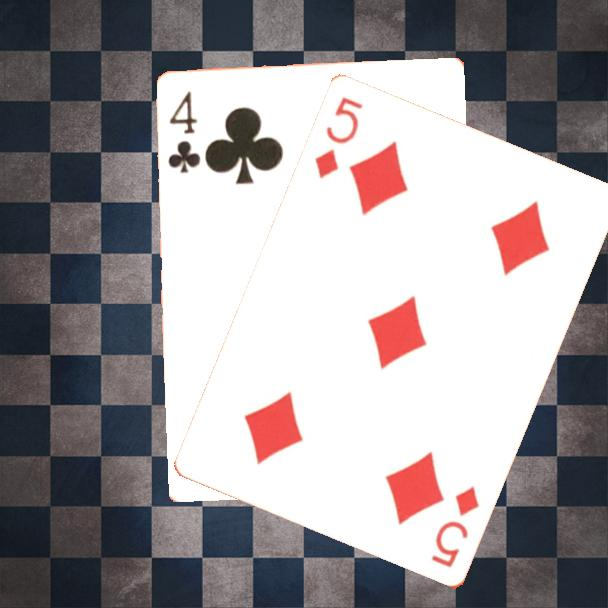c04: (165, 88, 202, 176)
d05: (311, 94, 367, 182), (428, 483, 483, 571)
